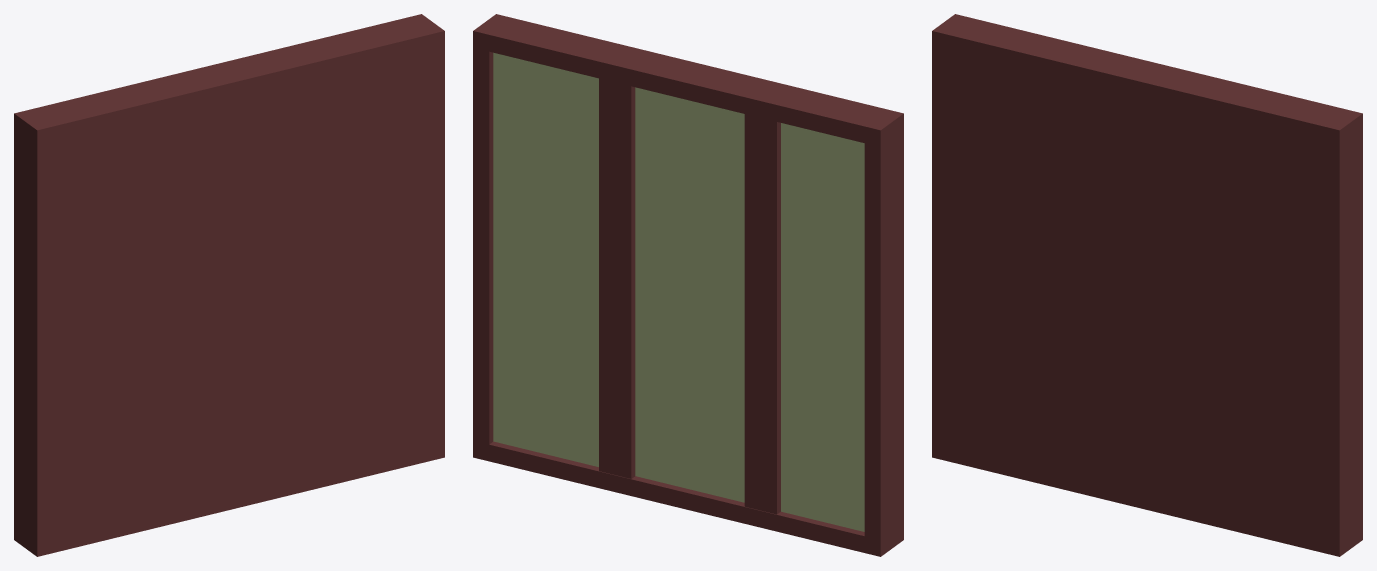
File: Wall_200_02.fbx
3 renders of one model, left to right at view 1: azimuth 30°, elevation 25°; view 2: azimuth 150°, elevation 25°; view 3: azimuth 330°, elevation 25°, orthographic.
Parts seen in each view (by area): view 1: Wall_200_K_02; view 2: Wall_200_K_02; view 3: Wall_200_K_02.
Part boxes in pixels (bbox=[...]): Wall_200_K_02: bbox=[14, 14, 444, 556]; Wall_200_K_02: bbox=[473, 14, 903, 556]; Wall_200_K_02: bbox=[932, 14, 1362, 556].
Size of the model in its own units: 2 by 2 by 0.1966.
